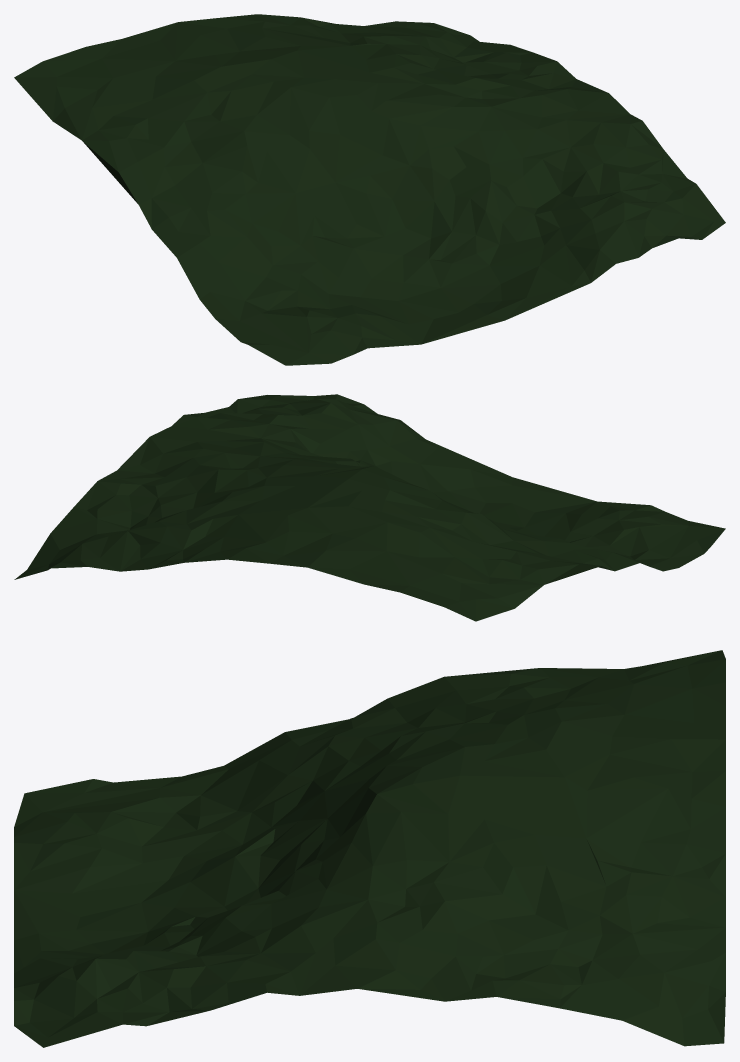
The model's file is SM_terrain_03.fbx.
The picture shows the model from 3 angles, top to bottom: view 1: azimuth 30°, elevation 25°; view 2: azimuth 150°, elevation 25°; view 3: azimuth 270°, elevation 25°; orthographic projection. The views are drawn at different scales.
Visible parts, largest first — view 1: terrain_03; view 2: terrain_03; view 3: terrain_03.
Boxes of the visible parts, box(x1,y1,x2,y2) form: terrain_03: box(14, 14, 725, 365); terrain_03: box(14, 394, 725, 621); terrain_03: box(14, 650, 725, 1047).
Bounding box in the file's own units: 7742 × 2099 × 7742.
